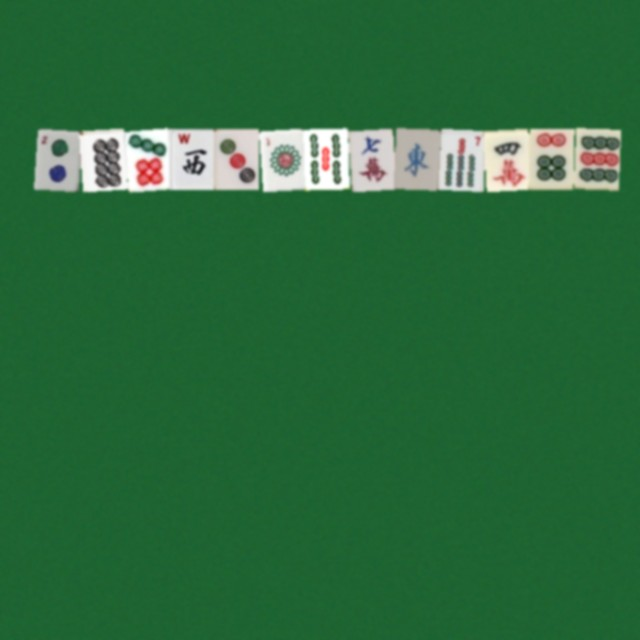tile: (33, 128, 78, 189), (78, 128, 123, 189), (123, 128, 168, 189), (168, 128, 213, 189), (213, 128, 258, 189), (258, 128, 303, 189), (303, 128, 348, 189), (348, 128, 393, 189), (393, 128, 438, 189), (438, 128, 483, 189), (483, 128, 528, 189), (528, 128, 573, 189), (573, 128, 618, 189)
